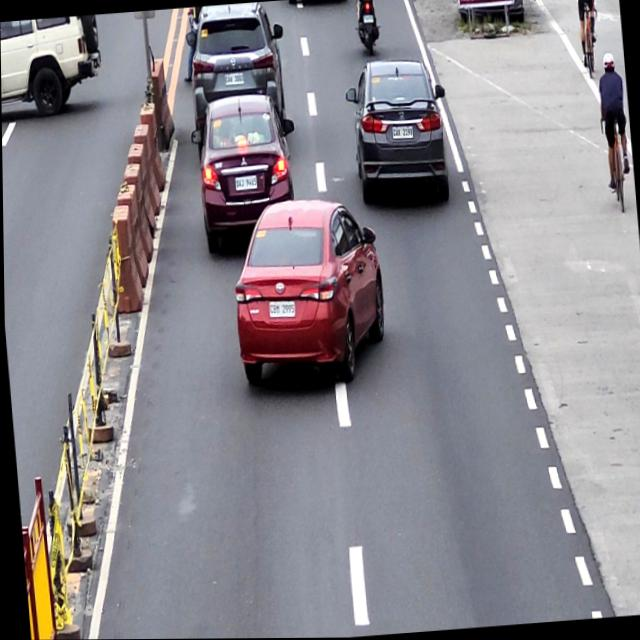Car: (235, 204, 380, 381), (349, 55, 451, 205), (191, 92, 287, 246), (185, 0, 292, 108)
License-Plate: (267, 297, 296, 322), (232, 173, 258, 194), (388, 122, 414, 142), (224, 70, 246, 86)
